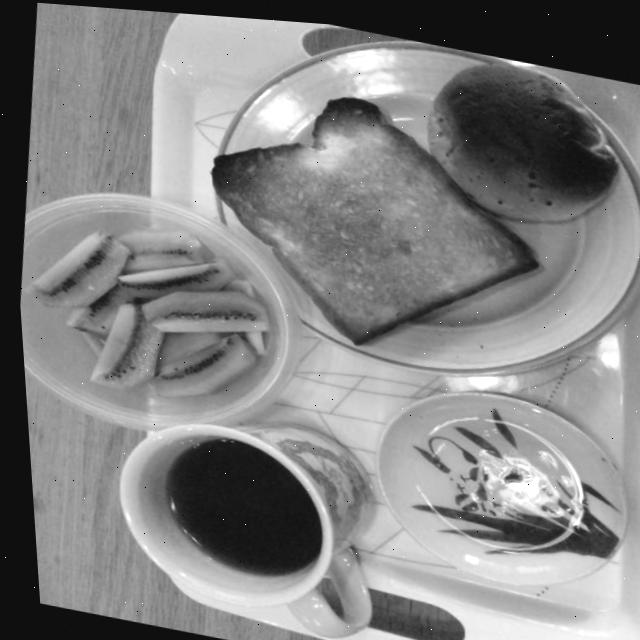面包点心: (166, 56, 570, 395)
